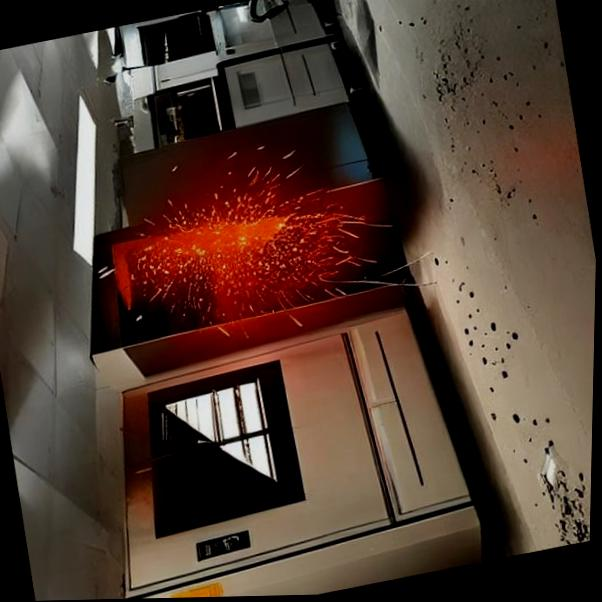fire: (60, 154, 414, 340)
